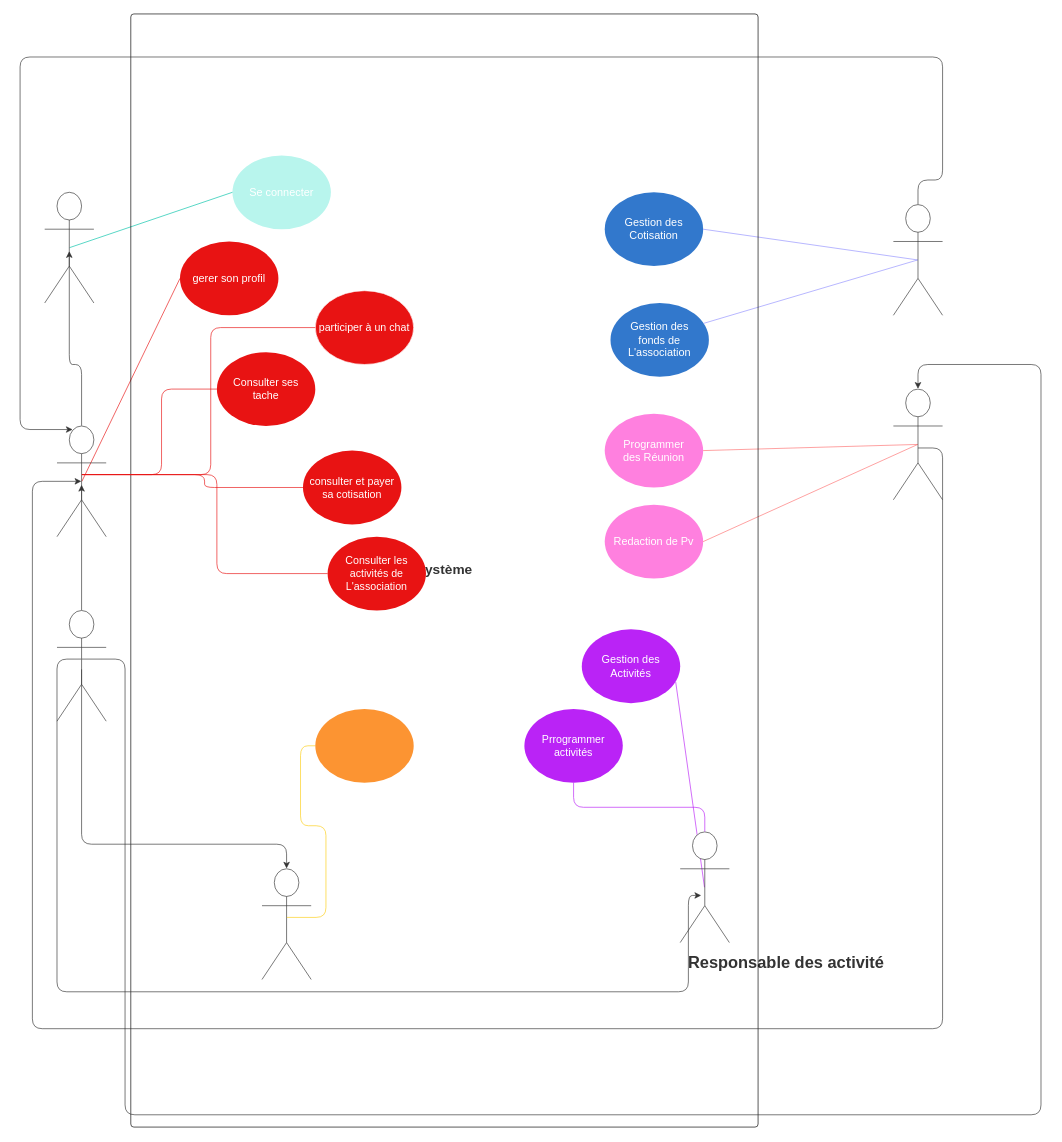
Some shapes in this 1062 by 1142 pixel diagram are drawn without their labels. Each missing label, with the box of its shape:
Administrateur: (261, 868, 311, 979)
Assigner Role a un Membre de L'association: (315, 708, 414, 783)
Membre: (56, 425, 106, 537)
President: (56, 610, 106, 721)
Secretaire: (893, 388, 943, 500)
Tresorier: (893, 204, 943, 315)
visiteur: (44, 192, 94, 303)
